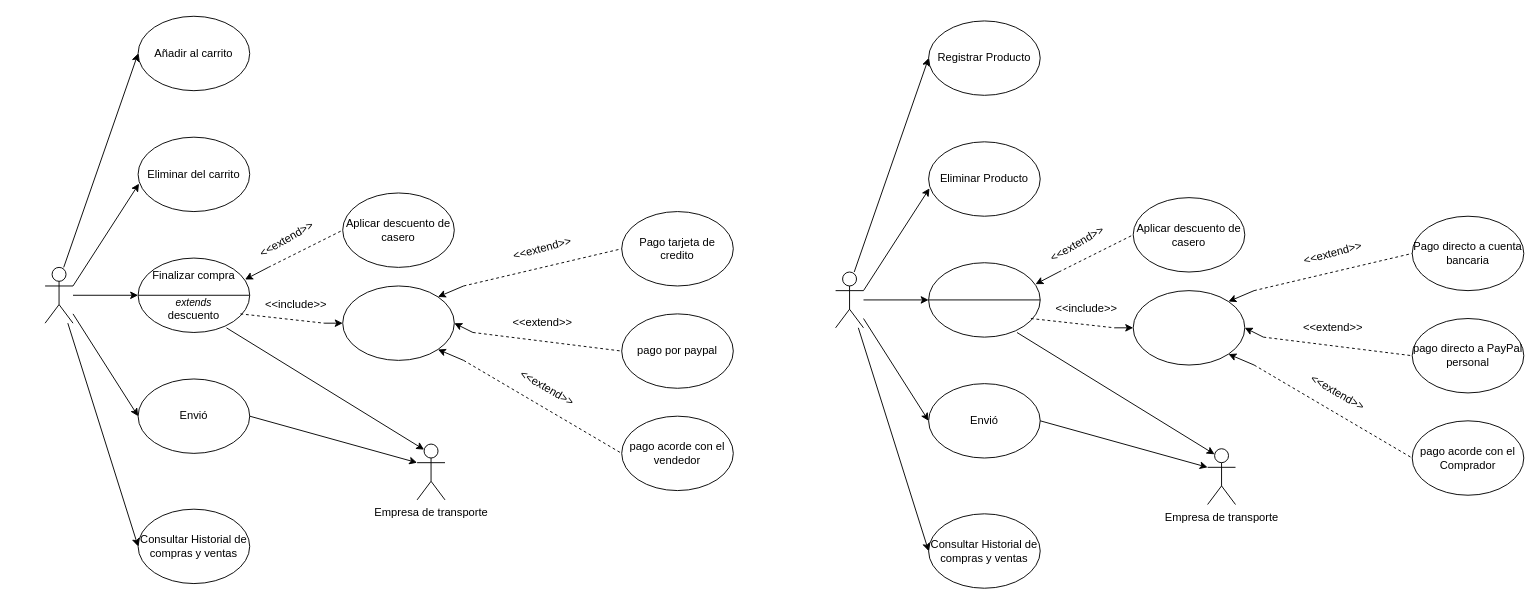
Some shapes in this 1540 by 605 pixel diagram are drawn without their labels. Here are the shapes that lost their labels. From the top down, the centre of each, then its label:
the point at 58,294: COMPRADOR
the point at 849,299: VENDEDOR
the point at 984,299: Confirmar producto vendido extends Descuento a bajar
the point at 398,322: Pagar
the point at 1188,327: Pago del producto
